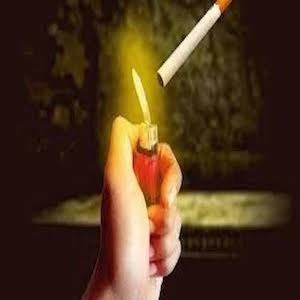heat: (124, 64, 162, 152)
